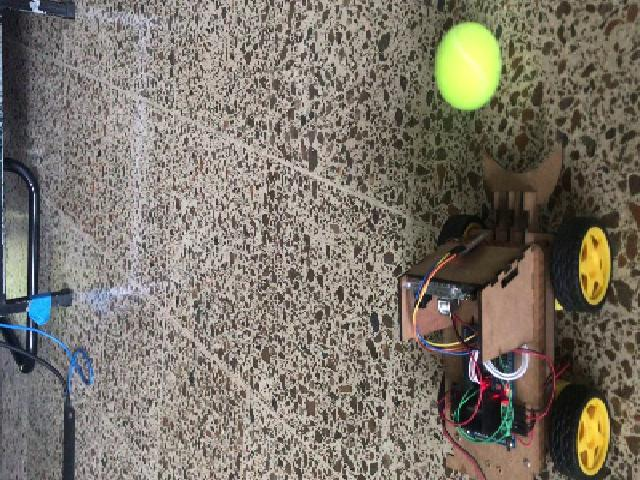Ball: (432, 22, 502, 110)
Robot: (395, 143, 613, 476)
